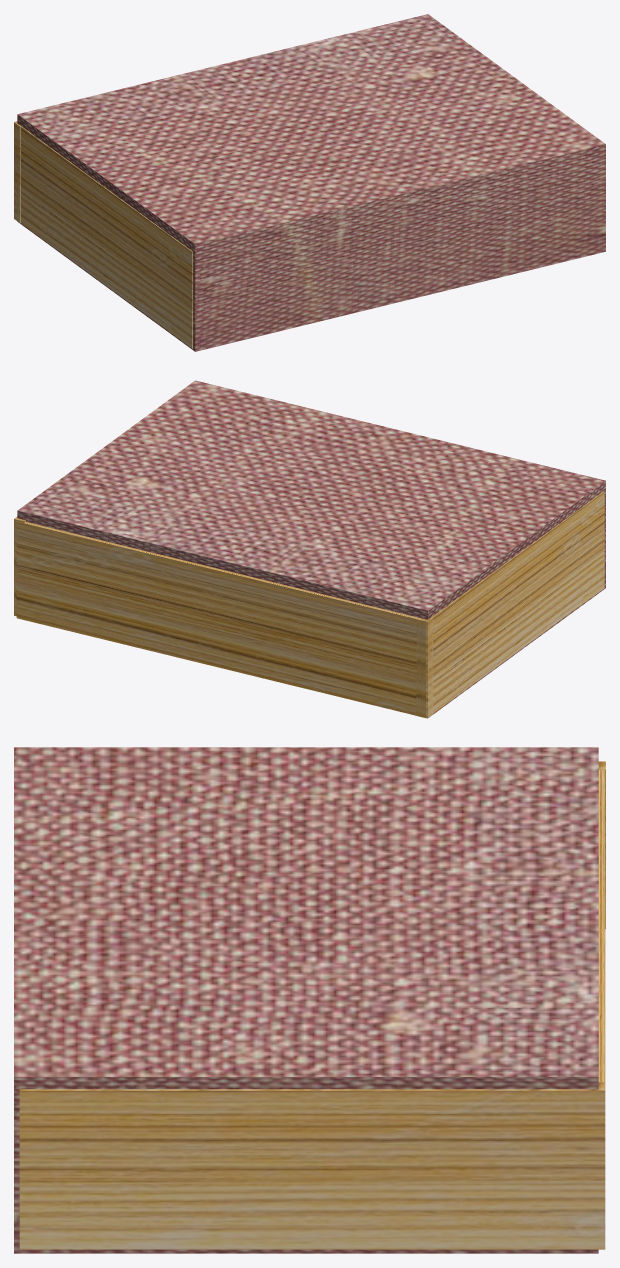
The model's file is Libro.obj.
3 renders of one model, top to bottom at view 1: azimuth 30°, elevation 25°; view 2: azimuth 150°, elevation 25°; view 3: azimuth 270°, elevation 25°, orthographic. The views are drawn at different scales.
Parts seen in each view (by area): view 1: pCube1, pCube3, pCube4; view 2: pCube1, pCube4, pCube3; view 3: pCube1, pCube2, pCube4.
Boxes of the visible parts, bbox=[...] form: pCube1: bbox=[17, 14, 605, 351]; pCube3: bbox=[15, 121, 192, 348]; pCube4: bbox=[14, 122, 20, 222]; pCube1: bbox=[17, 380, 605, 717]; pCube4: bbox=[16, 521, 433, 718]; pCube3: bbox=[416, 491, 604, 718]; pCube1: bbox=[14, 747, 598, 1253]; pCube2: bbox=[19, 1082, 604, 1249]; pCube4: bbox=[598, 761, 605, 1249].
Size of what is drawn, in the model's own units: 4.03 by 1 by 3.04.
2 materials, 2 textured.
